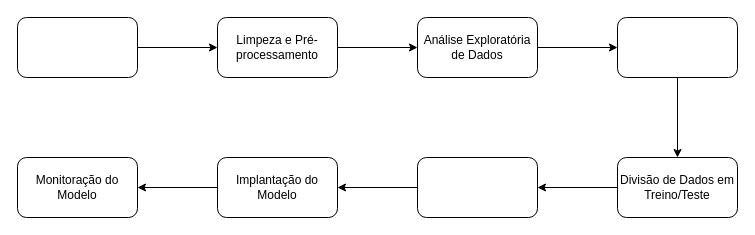
Some shapes in this 755 by 235 pixel diagram are drawn without their labels. Each missing label, with the centre of its shape:
"Aquisição de Dados" goes at [77,47].
"Transformação de Dados" goes at [677,47].
"Treinamento e Validação de Modelo" goes at [477,187].
